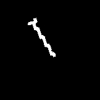half_double_crochet: (28, 18, 54, 56)
